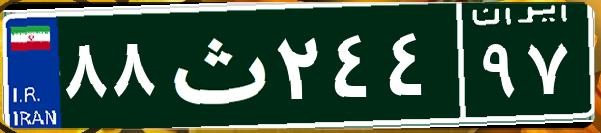2: (273, 28, 330, 110)
4: (385, 28, 445, 110), (330, 28, 385, 110)
7: (525, 38, 570, 115)
8: (57, 26, 110, 107), (110, 28, 158, 105)
9: (475, 38, 525, 113)
ث: (158, 15, 273, 115)
